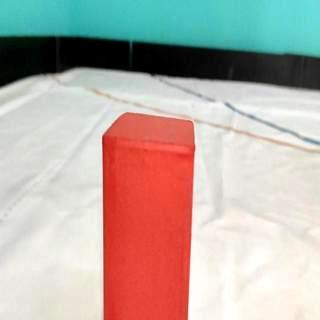redbox: (100, 111, 196, 320)
